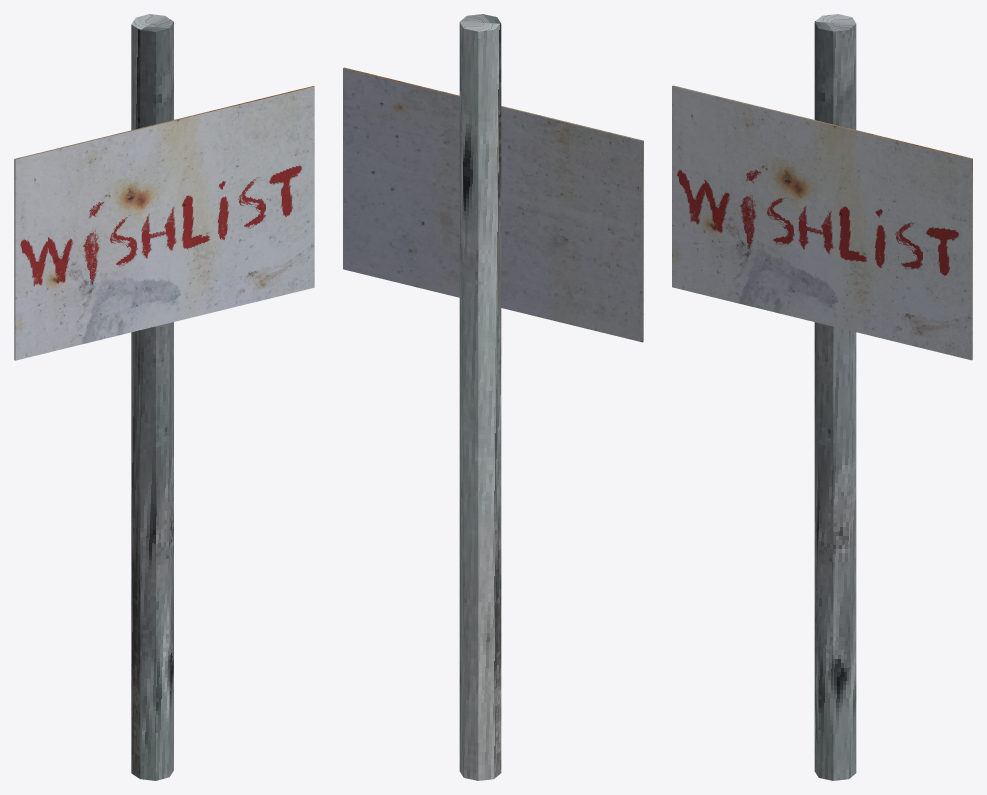
File: NoPasar05.glb
The picture shows the model from 3 angles, left to right: view 1: azimuth 30°, elevation 25°; view 2: azimuth 150°, elevation 25°; view 3: azimuth 330°, elevation 25°; orthographic projection.
Visible parts, largest first — view 1: Cube.058, Cube.059; view 2: Cube.058, Cube.059; view 3: Cube.058, Cube.059.
Boxes of the visible parts, box(x1,y1,x2,y2) form: Cube.058: box(14, 86, 314, 360); Cube.059: box(131, 14, 173, 780); Cube.058: box(343, 67, 643, 342); Cube.059: box(459, 14, 501, 780); Cube.058: box(672, 85, 972, 360); Cube.059: box(814, 14, 856, 780).
Bounding box in the file's own units: 0.1858 × 0.4439 × 0.0247.
Materials: 2 (2 with a texture image).
